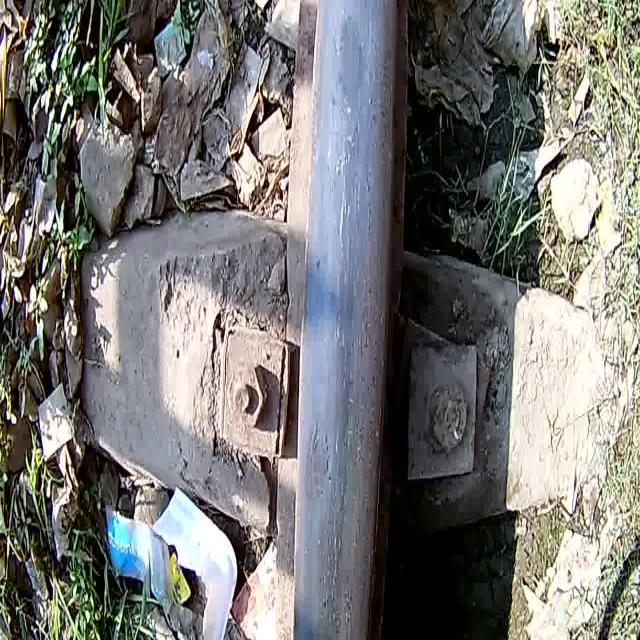Squats: (301, 0, 415, 125), (282, 406, 393, 530)
